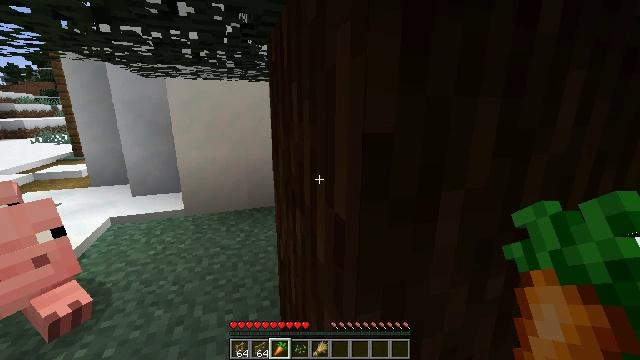pig: (0, 181, 94, 343)
